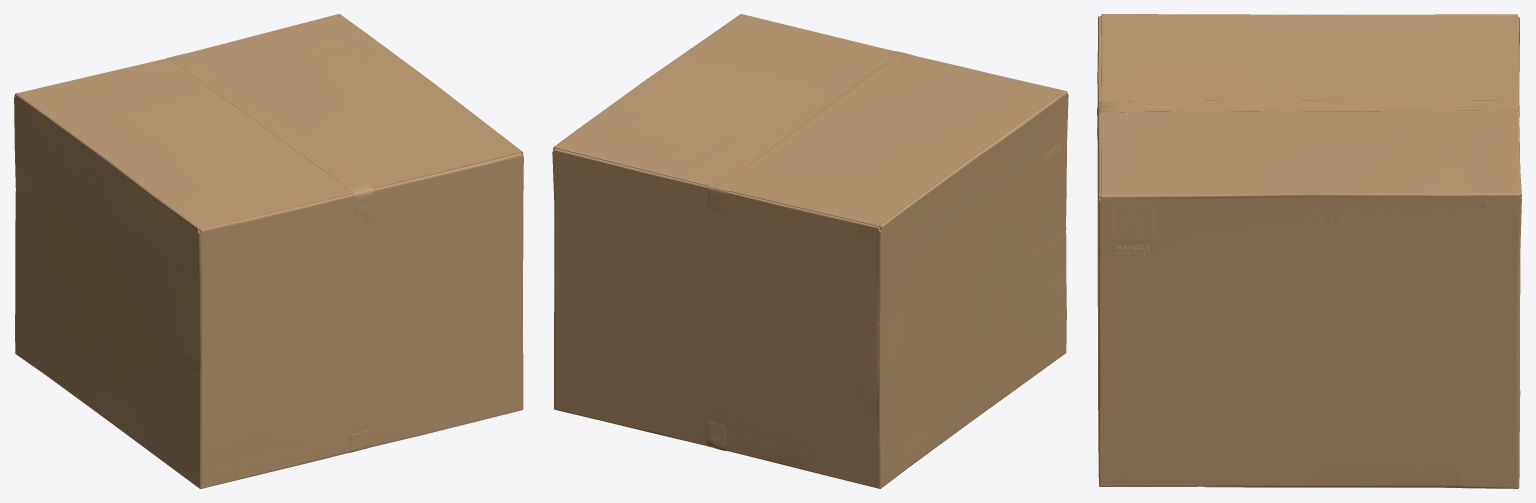
Rendered from box_corrugated_white_b33.glb.
The picture shows the model from 3 angles, left to right: view 1: azimuth 30°, elevation 25°; view 2: azimuth 150°, elevation 25°; view 3: azimuth 270°, elevation 25°; orthographic projection. The views are drawn at different scales.
Size of the model in its own units: 0.2011 by 0.1541 by 0.1996.
